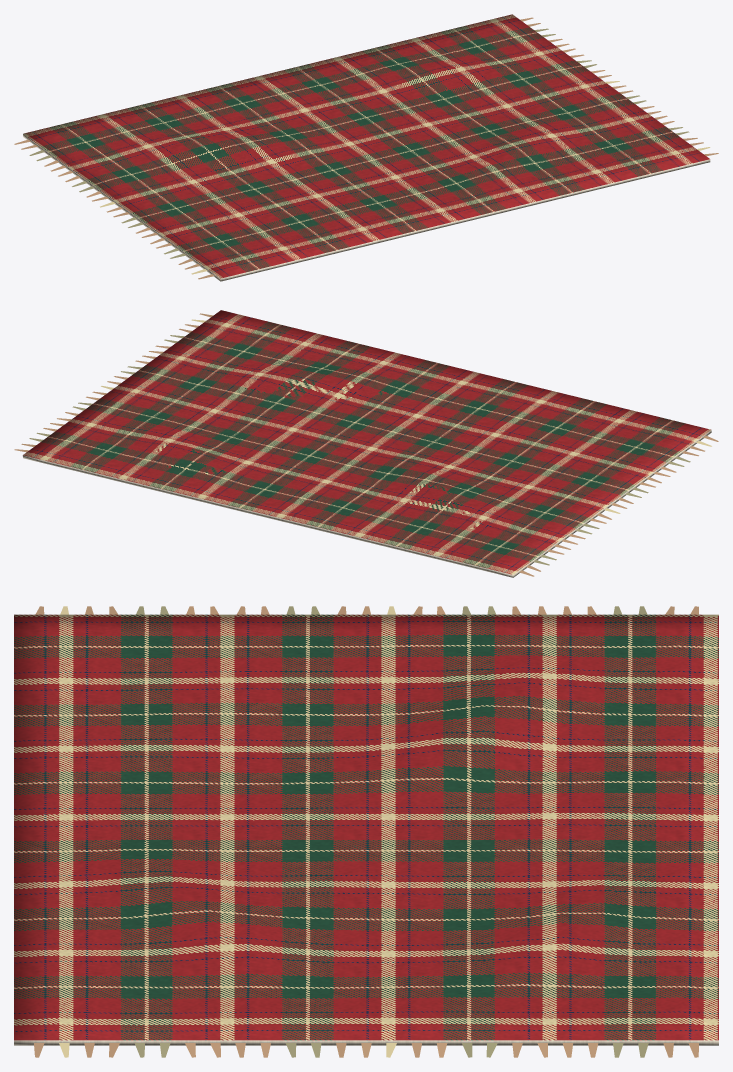
The model's file is blanket_red.glb.
3 renders of one model, top to bottom at view 1: azimuth 30°, elevation 25°; view 2: azimuth 150°, elevation 25°; view 3: azimuth 270°, elevation 25°, orthographic. The views are drawn at different scales.
Parts seen in each view (by area): view 1: blanket; view 2: blanket; view 3: blanket.
Boxes of the visible parts, x1,y1,x2,y2 form: blanket: (14,14,718,281); blanket: (14,310,718,577); blanket: (14,606,718,1057).
Bounding box in the file's own units: 2.12 × 0.036 × 1.4.
3 materials, 3 textured.
